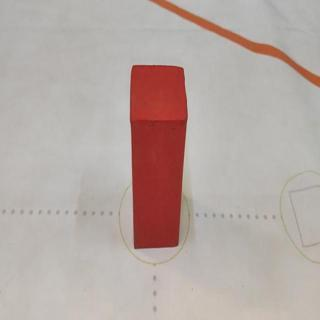redbox: (129, 63, 189, 249)
